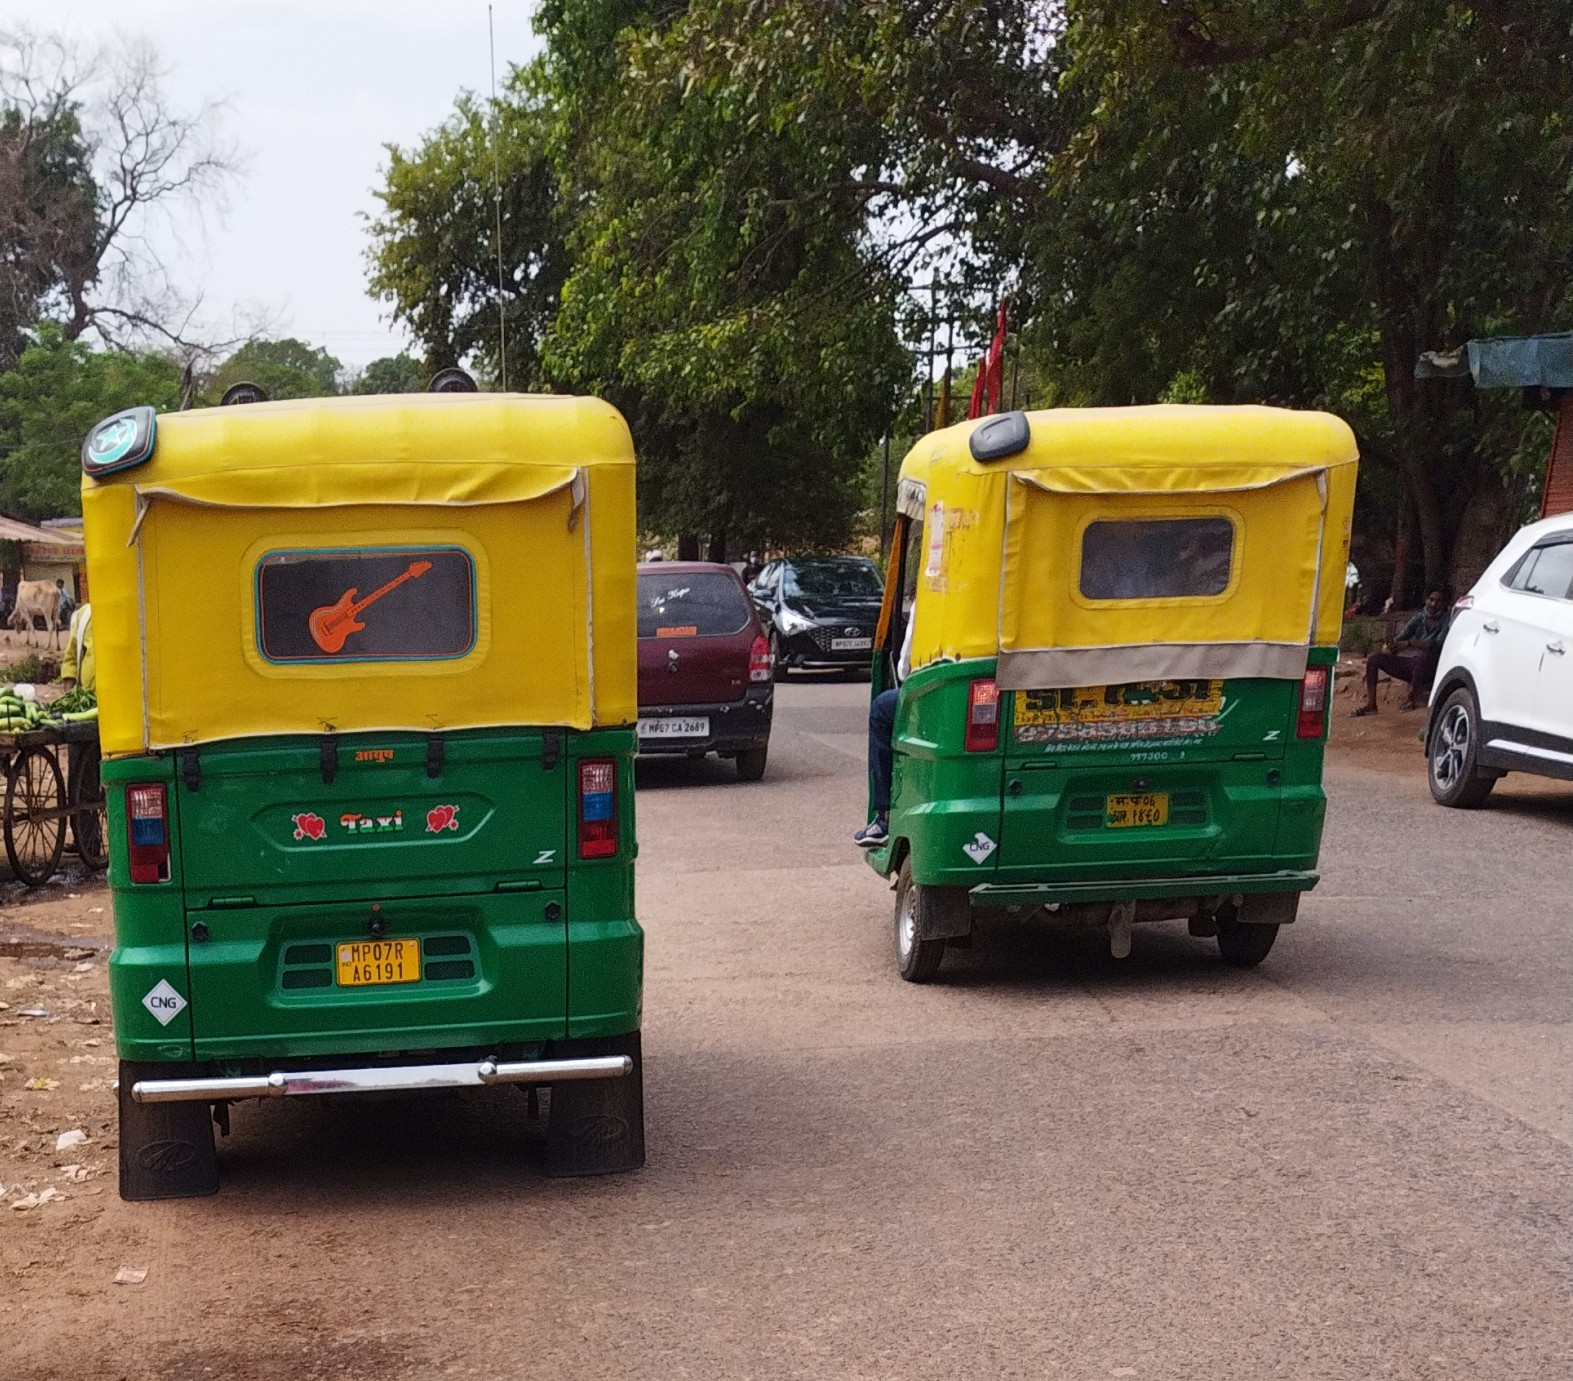auto: (66, 377, 676, 1178), (851, 394, 1402, 1006)
plate: (309, 907, 441, 997)
